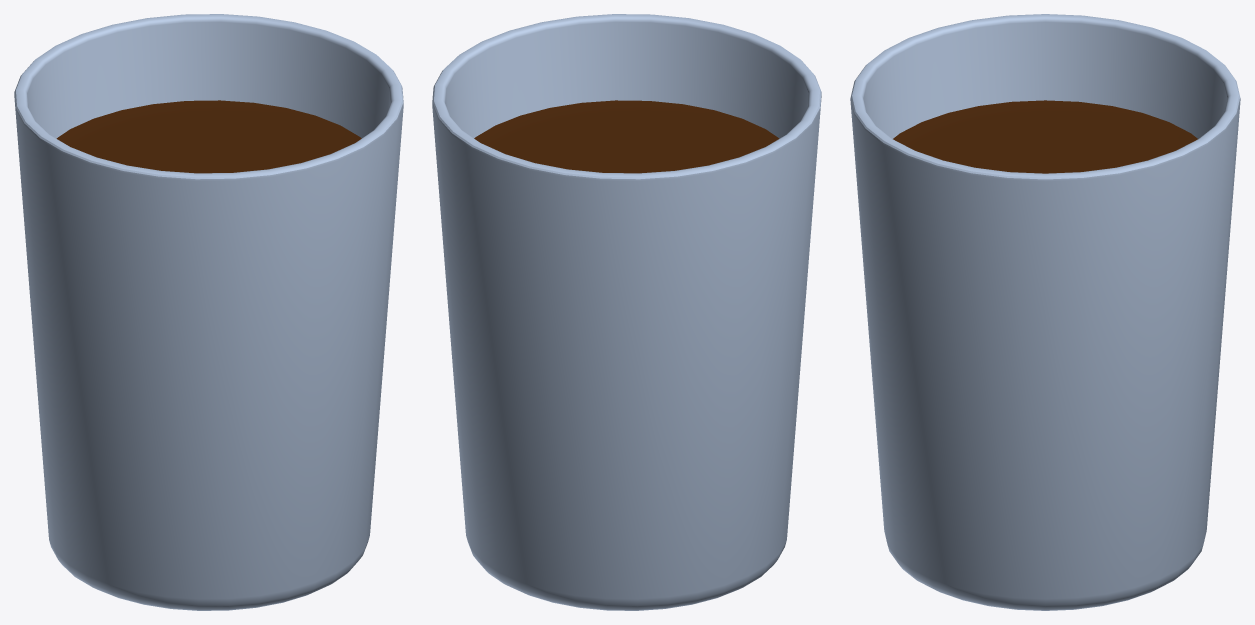
The model's file is Wiskey Renormalized.fbx.
The picture shows the model from 3 angles, left to right: view 1: azimuth 30°, elevation 25°; view 2: azimuth 150°, elevation 25°; view 3: azimuth 270°, elevation 25°; orthographic projection.
Parts seen in each view (by area): view 1: Cylinder.005, Cylinder.006; view 2: Cylinder.005, Cylinder.006; view 3: Cylinder.005, Cylinder.006.
Part boxes in pixels (bbox=[...]): Cylinder.005: bbox=[14, 14, 403, 610]; Cylinder.006: bbox=[56, 100, 361, 173]; Cylinder.005: bbox=[432, 14, 821, 610]; Cylinder.006: bbox=[474, 100, 779, 173]; Cylinder.005: bbox=[850, 14, 1240, 610]; Cylinder.006: bbox=[893, 100, 1197, 173].
Size of the model in its own units: 114 by 147 by 114.
